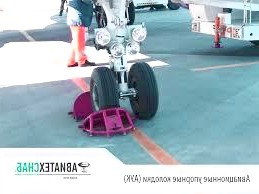chock: (78, 108, 136, 137), (69, 92, 94, 122)
wheel: (127, 62, 159, 119), (89, 66, 120, 112)
